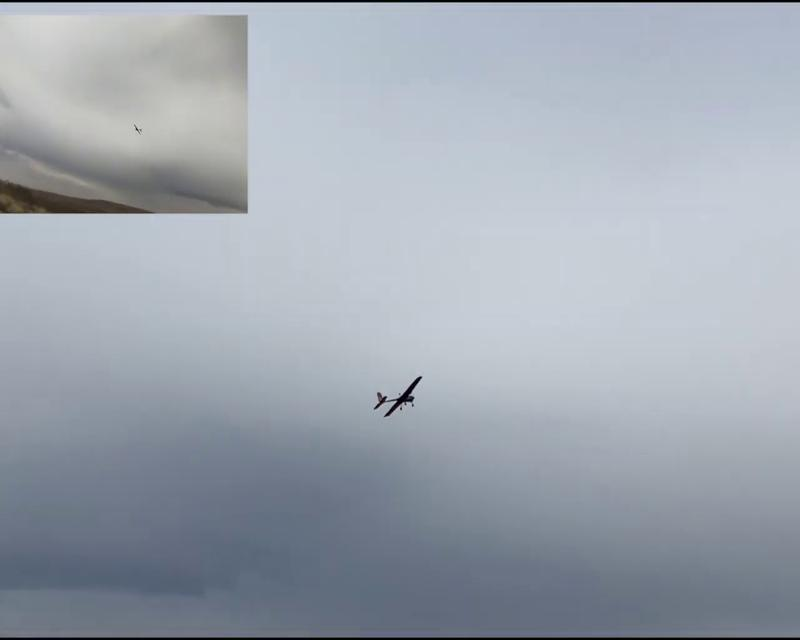UAV: (373, 376, 423, 418), (134, 124, 142, 136)
